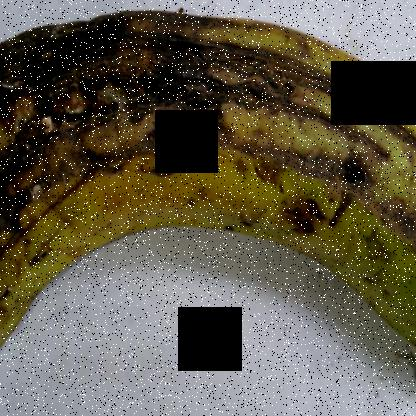rotten: (1, 1, 397, 371)
